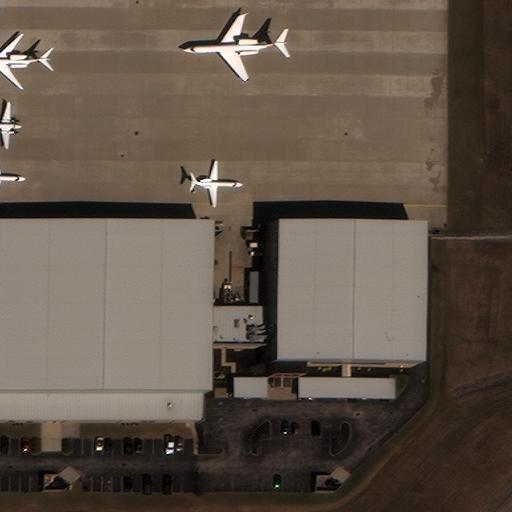Medium Civil Transport: (182, 15, 287, 81), (0, 32, 51, 90), (191, 160, 243, 206), (0, 102, 22, 148), (0, 158, 26, 195)
